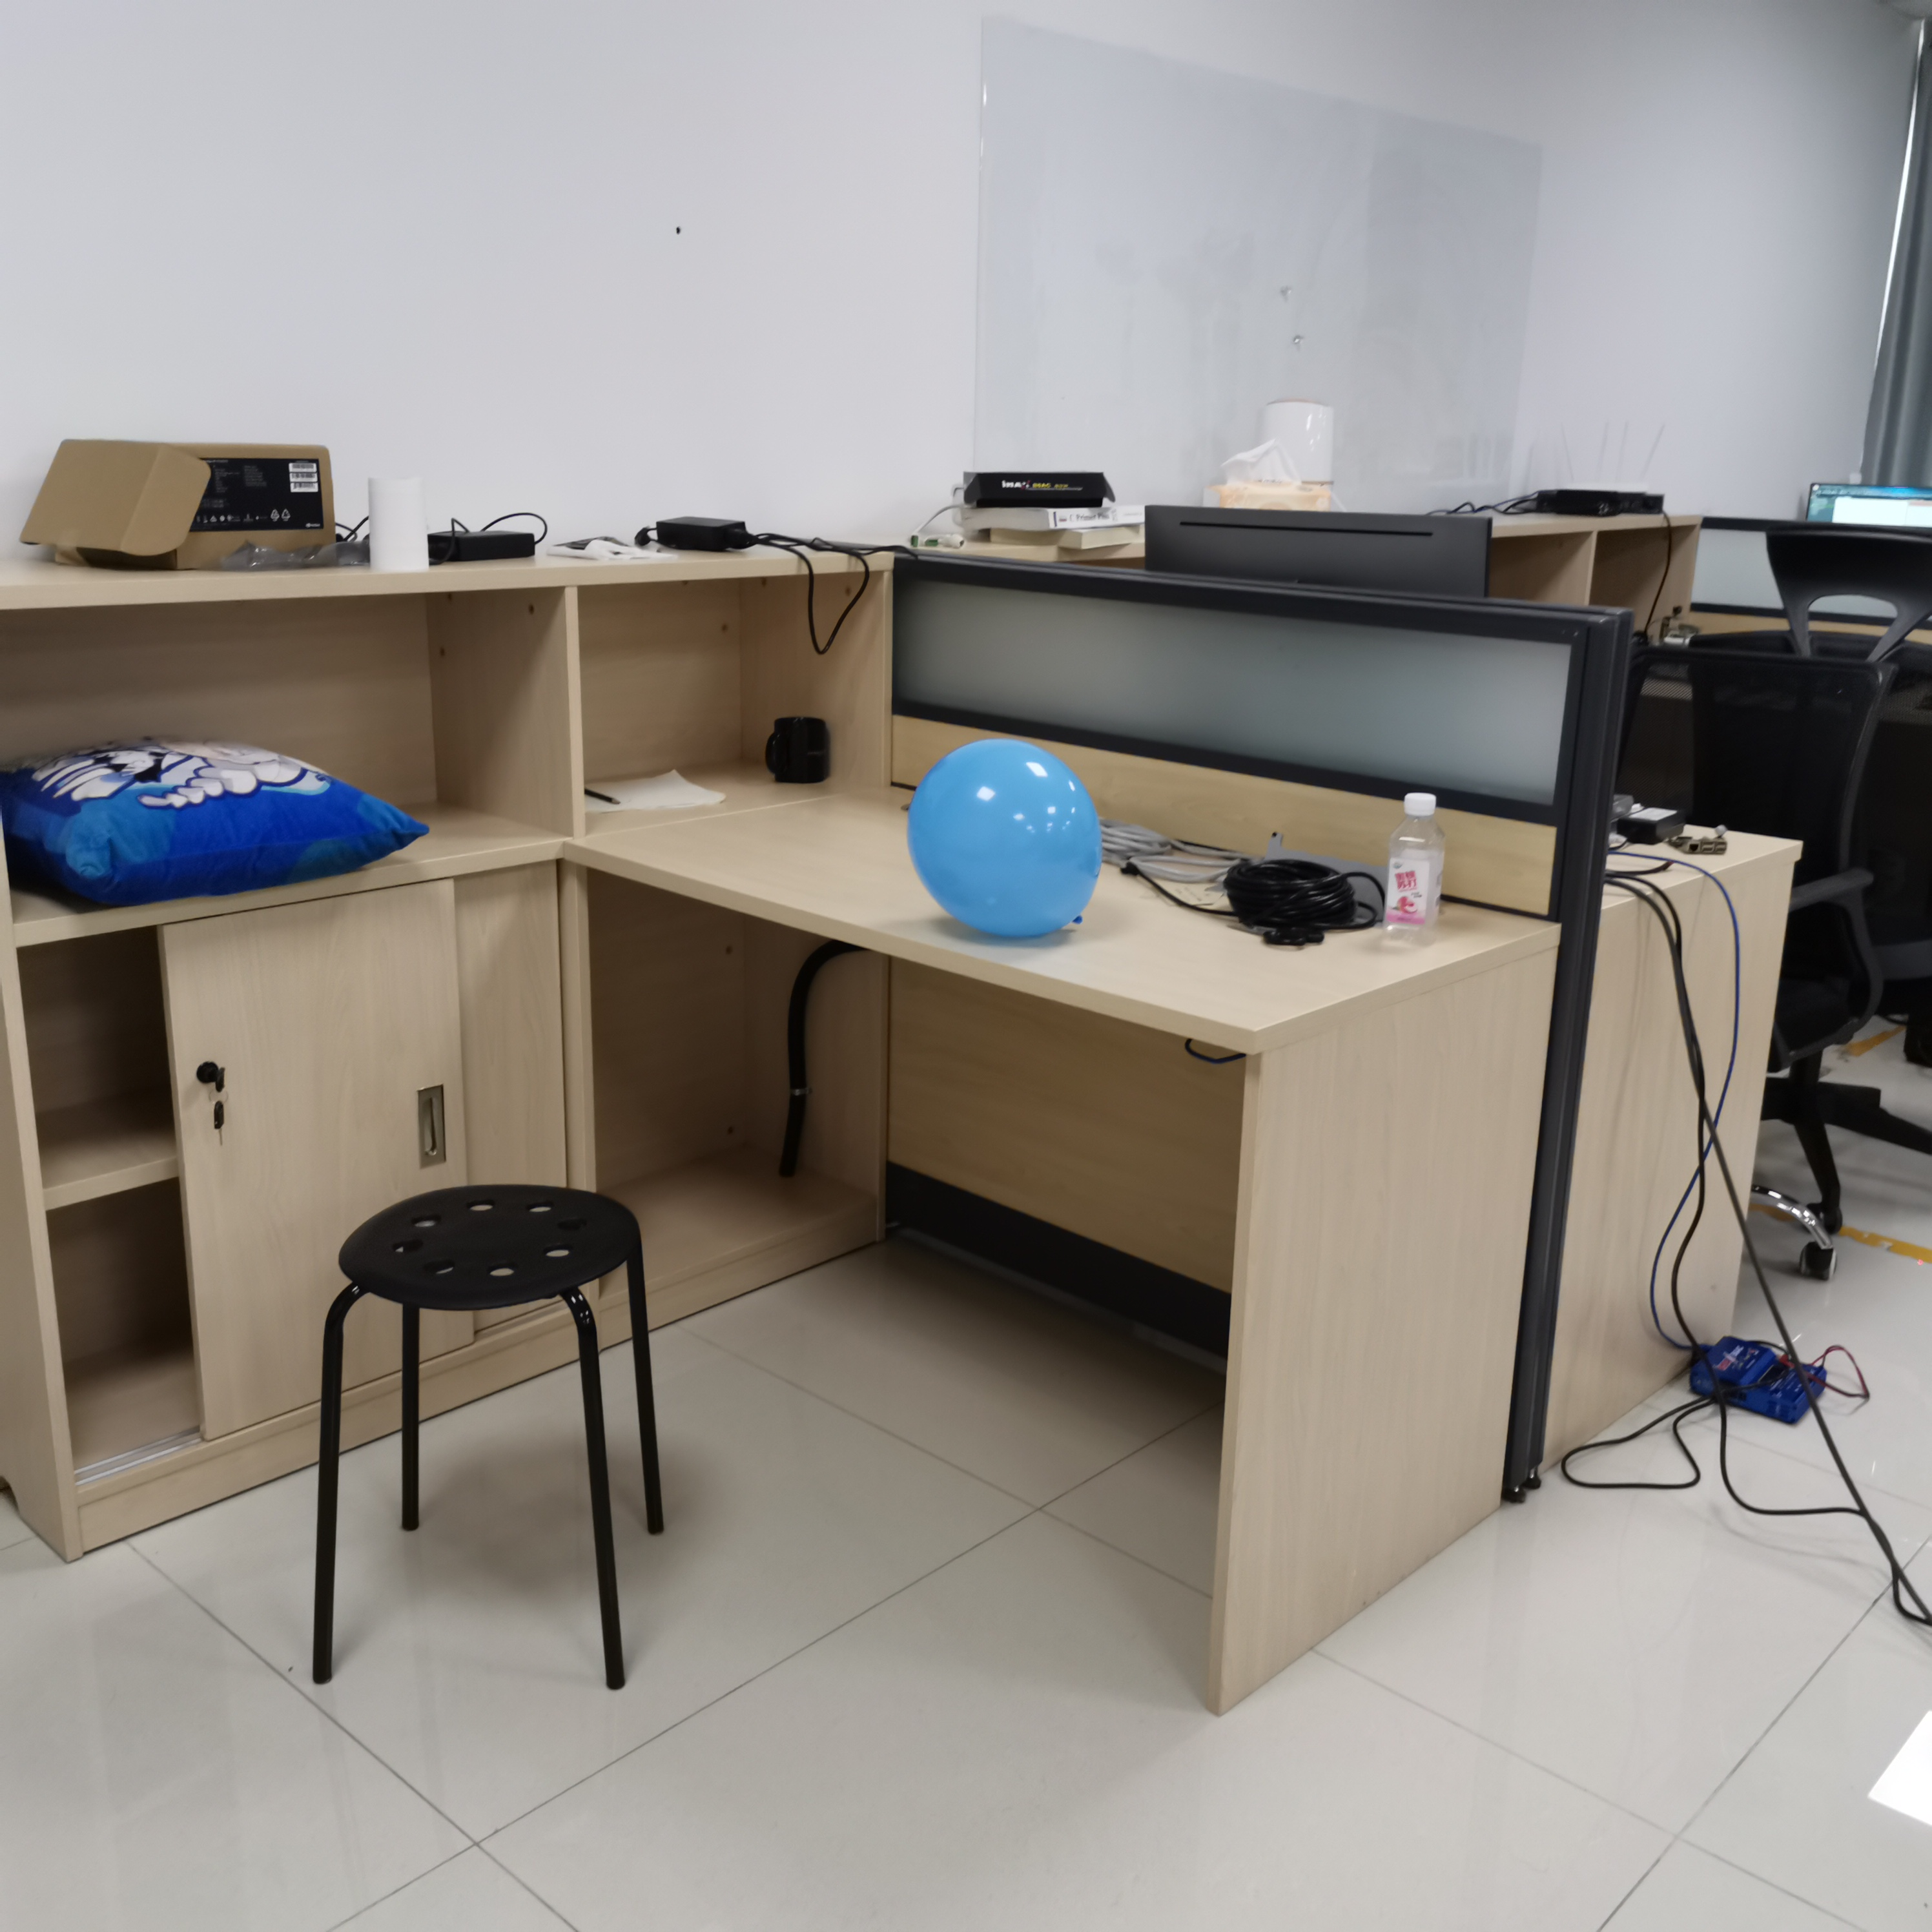balloon: (908, 740, 1100, 941)
